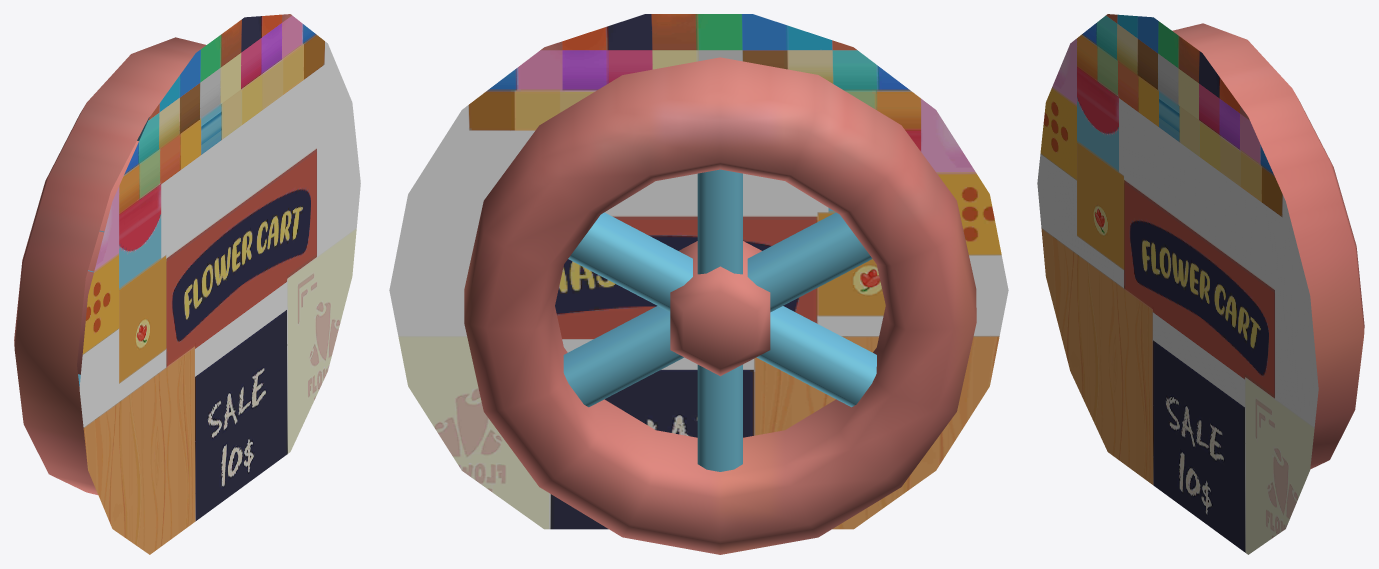
Rendered from Wheels.fbx.
3 renders of one model, left to right at view 1: azimuth 30°, elevation 25°; view 2: azimuth 150°, elevation 25°; view 3: azimuth 270°, elevation 25°, orthographic. The views are drawn at different scales.
Visible parts, largest first — view 1: Wheels; view 2: Wheels; view 3: Wheels.
Boxes of the visible parts, x1,y1,x2,y2 form: Wheels: (14,14,360,554); Wheels: (389,14,1008,554); Wheels: (1037,14,1364,554).
Size of the model in its own units: 3.34 by 3.4 by 2.15.
